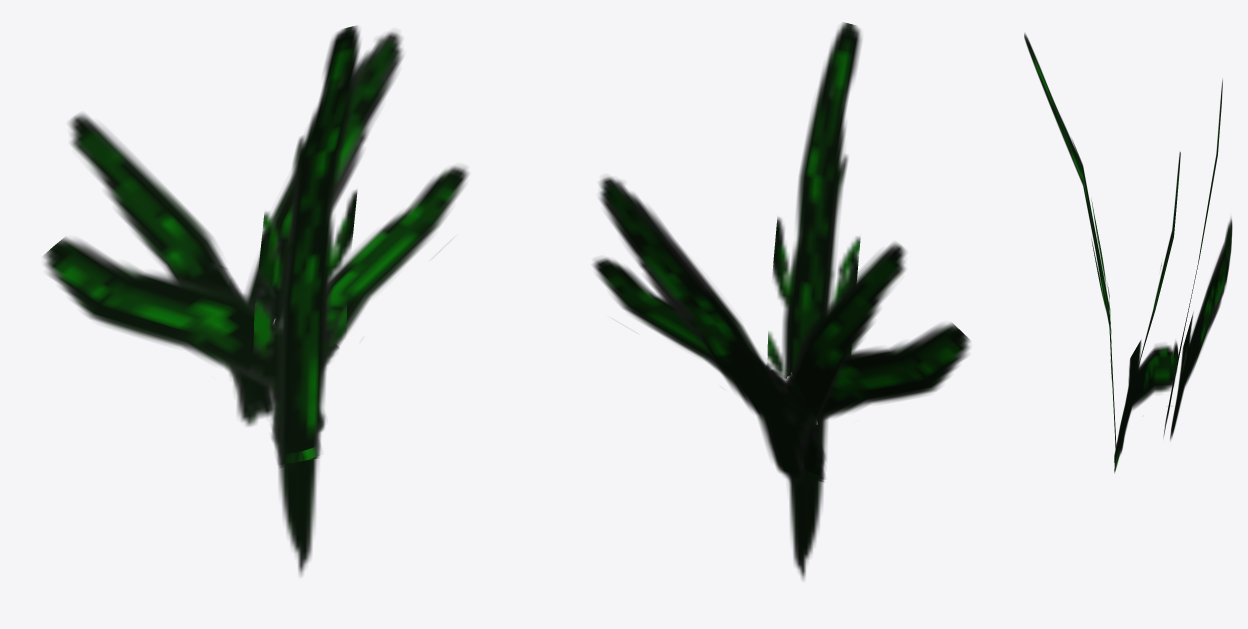
Rendered from leaves1.glb.
3 views of the same model, side by side, from view 1: azimuth 30°, elevation 25°; view 2: azimuth 150°, elevation 25°; view 3: azimuth 270°, elevation 25° (orthographic). The views are drawn at different scales.
Parts seen in each view (by area): view 1: leaves1_geo, leaves3_geo, leaves2_geo, leaves5_geo, leaves4_geo; view 2: leaves1_geo, leaves4_geo, leaves3_geo, leaves2_geo, leaves5_geo; view 3: leaves5_geo, leaves4_geo, leaves1_geo, leaves3_geo, leaves2_geo.
Part boxes in pixels (x1,y1,x2,y2): leaves1_geo: (253, 26, 360, 575); leaves3_geo: (43, 237, 339, 467); leaves2_geo: (69, 113, 276, 417); leaves5_geo: (248, 166, 468, 464); leaves4_geo: (229, 31, 402, 426); leaves1_geo: (767, 22, 861, 579); leaves4_geo: (599, 176, 816, 484); leaves3_geo: (772, 322, 970, 481); leaves2_geo: (765, 242, 905, 468); leaves5_geo: (593, 258, 825, 478); leaves5_geo: (1114, 339, 1178, 472); leaves4_geo: (1170, 218, 1232, 440); leaves1_geo: (1024, 33, 1116, 458); leaves3_geo: (1114, 152, 1180, 471); leaves2_geo: (1163, 79, 1222, 437).
Bounding box in the file's own units: 0.4719 × 0.5491 × 0.1861.
Materials: 5 (5 with a texture image).
